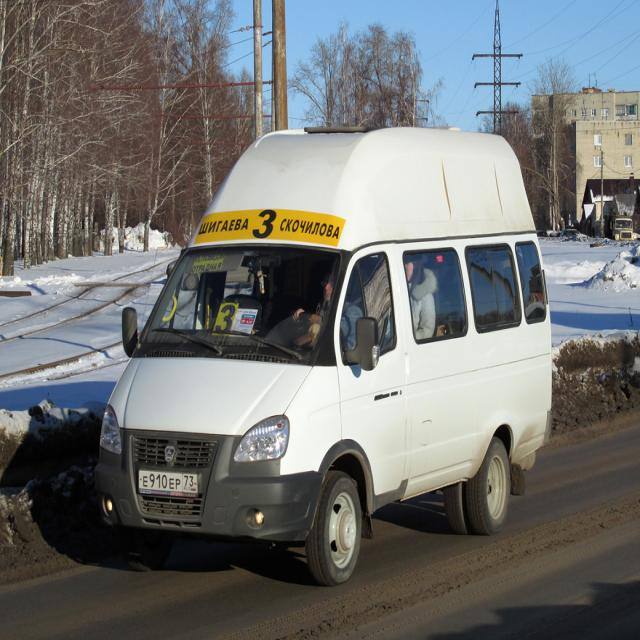number-of-bus: (252, 209, 279, 240), (215, 304, 238, 336)
